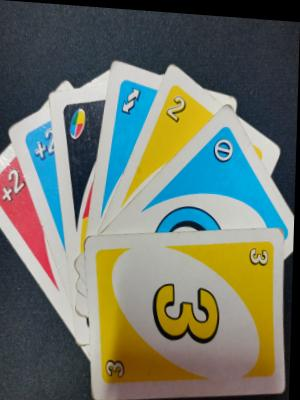-2: (0, 167, 30, 209)
blue: (182, 160, 266, 222)
num_2: (166, 89, 192, 124)
num_3: (104, 351, 135, 382), (245, 238, 275, 270)
reverse: (119, 80, 143, 115)
skip: (212, 131, 235, 160)
yellow: (97, 250, 279, 386)
